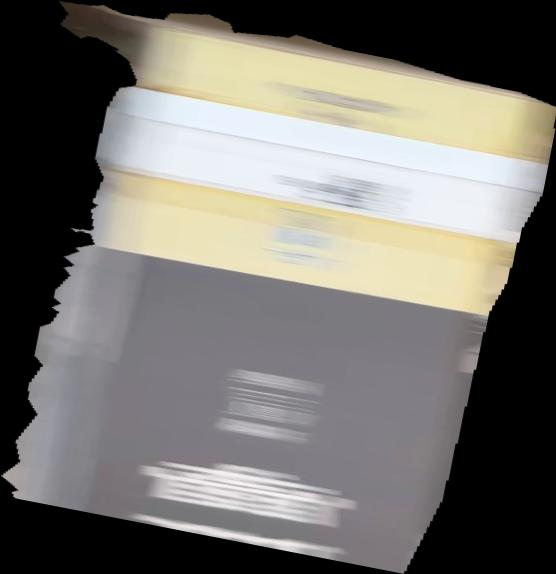reverse: (1, 1, 556, 574)
